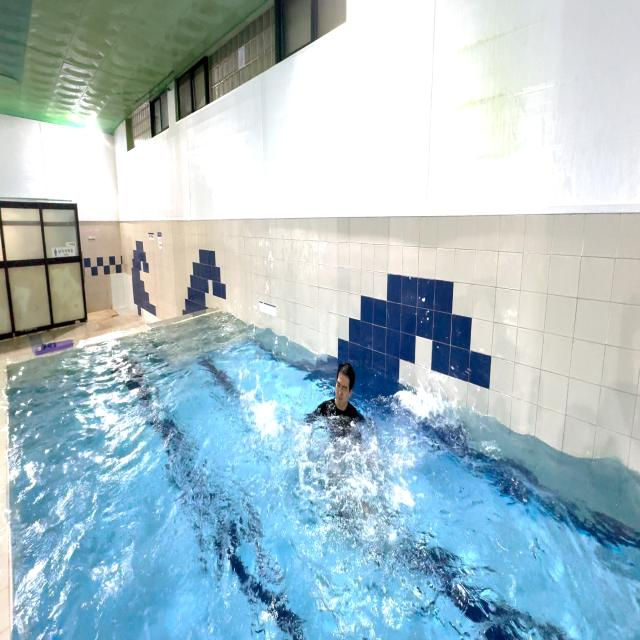Swimming: (302, 352, 394, 479)
